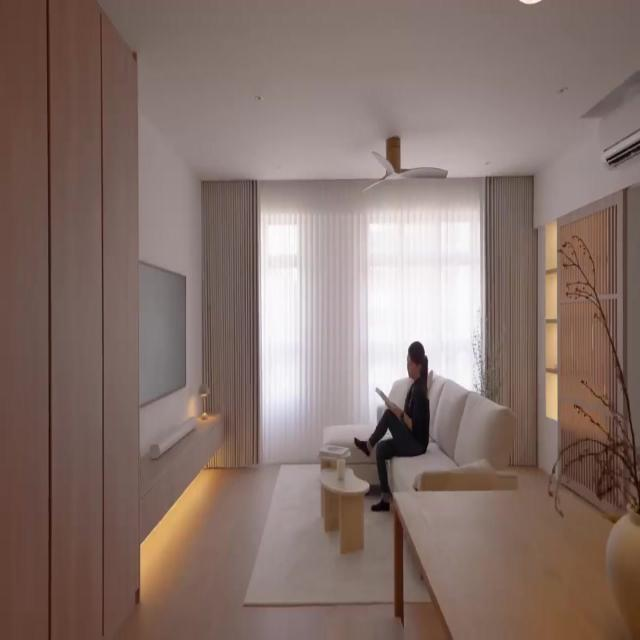obstacle: (0, 0, 140, 640), (320, 369, 518, 502), (318, 466, 369, 553)
person: (354, 340, 431, 512)
